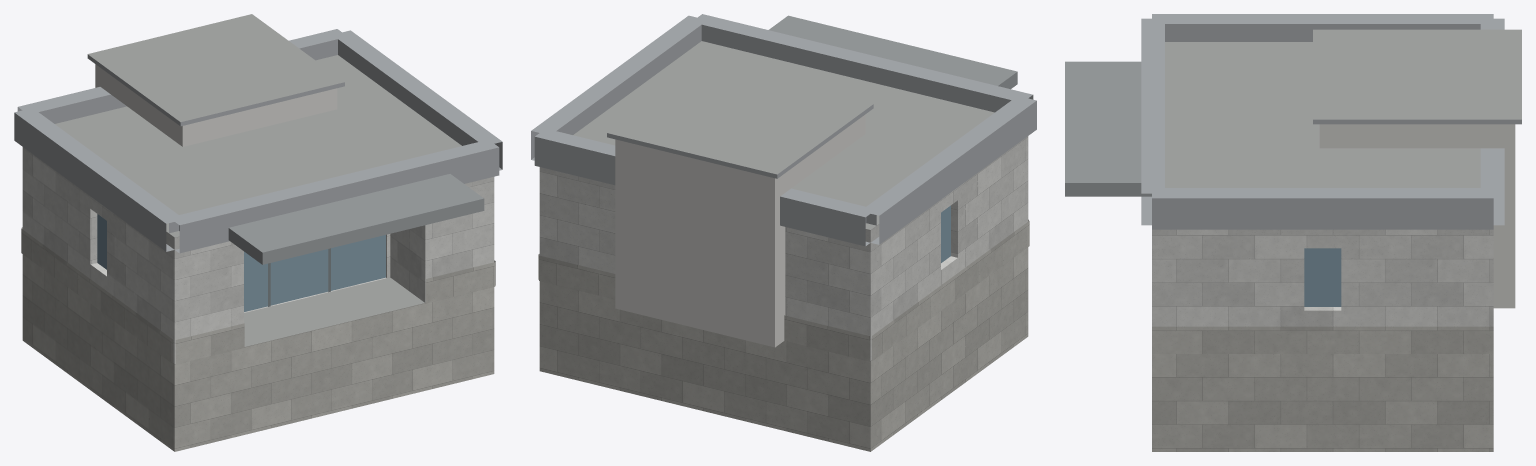
3 views of the same model, side by side, from view 1: azimuth 30°, elevation 25°; view 2: azimuth 150°, elevation 25°; view 3: azimuth 270°, elevation 25° (orthographic). The views are drawn at different scales.
Visible parts, largest first — view 1: eastGateN0__base, eastGateN0__roof, eastGateN0__trim, eastGateN0__wall, eastGateN0__canopy, eastGateN0__glass, eastGateN0__wall2; view 2: eastGateN0__base, eastGateN0__roof, eastGateN0__wall2, eastGateN0__trim, eastGateN0__wall, eastGateN0__canopy, eastGateN0__glass; view 3: eastGateN0__roof, eastGateN0__base, eastGateN0__wall, eastGateN0__trim, eastGateN0__canopy, eastGateN0__wall2, eastGateN0__glass.
Part boxes in pixels (left/top/right/bottom): eastGateN0__base: left=21, top=227, right=495, bottom=451; eastGateN0__roof: left=55, top=14, right=461, bottom=346; eastGateN0__trim: left=14, top=29, right=502, bottom=253; eastGateN0__wall: left=22, top=147, right=494, bottom=363; eastGateN0__canopy: left=228, top=174, right=484, bottom=264; eastGateN0__glass: left=97, top=214, right=385, bottom=311; eastGateN0__wall2: left=95, top=64, right=337, bottom=146; eastGateN0__base: left=538, top=219, right=1029, bottom=451; eastGateN0__roof: left=573, top=41, right=994, bottom=229; eastGateN0__wall2: left=615, top=115, right=865, bottom=347; eastGateN0__trim: left=531, top=14, right=1036, bottom=246; eastGateN0__wall: left=539, top=136, right=1028, bottom=360; eastGateN0__canopy: left=769, top=15, right=1017, bottom=89; eastGateN0__glass: left=941, top=205, right=950, bottom=262; eastGateN0__roof: left=1165, top=29, right=1521, bottom=187; eastGateN0__base: left=1152, top=326, right=1493, bottom=451; eastGateN0__wall: left=1152, top=229, right=1493, bottom=326; eastGateN0__trim: left=1141, top=14, right=1521, bottom=229; eastGateN0__canopy: left=1065, top=61, right=1151, bottom=196; eastGateN0__wall2: left=1319, top=124, right=1515, bottom=308; eastGateN0__glass: left=1304, top=248, right=1341, bottom=306.
Bounding box in the file's own units: 10.02 × 7.35 × 10.5.
Materials: 9 (2 with a texture image).
